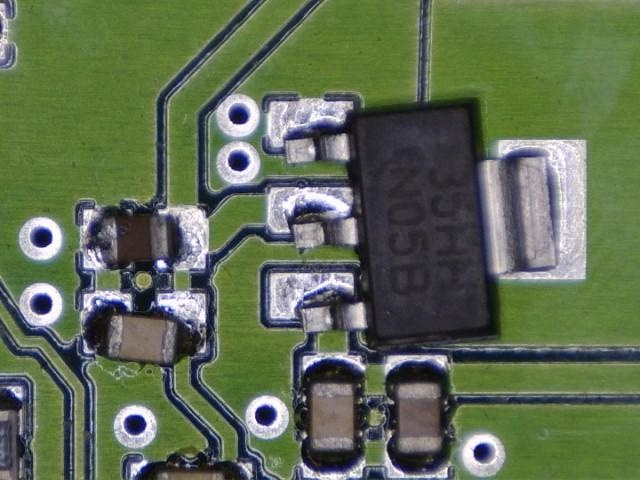pcb_defect: (267, 100, 588, 347), (84, 292, 207, 364)
